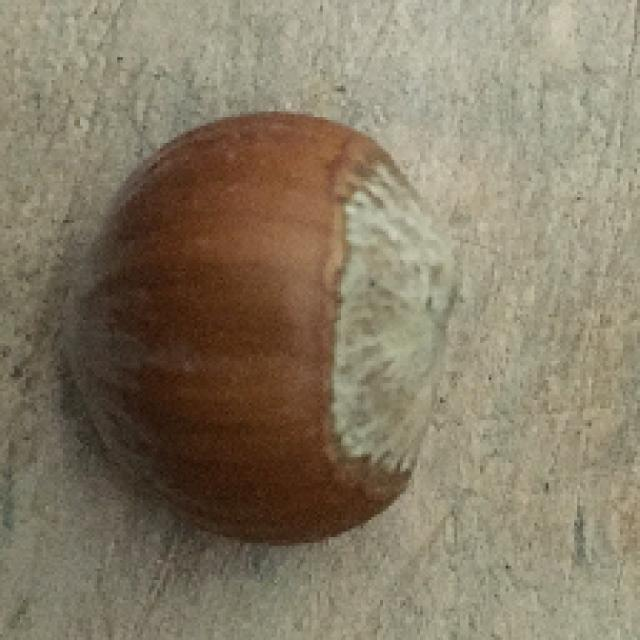qualityHazelnut: (57, 108, 439, 540)
